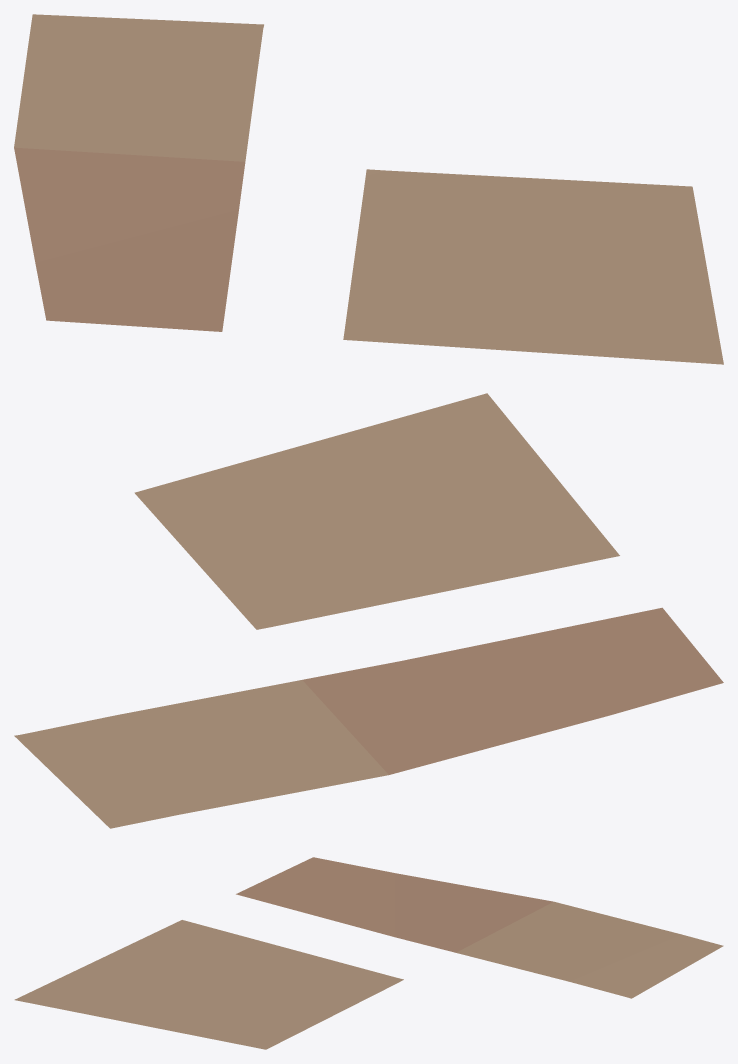
Rendered from farm_-47_-42_soil.glb.
3 renders of one model, top to bottom at view 1: azimuth 30°, elevation 25°; view 2: azimuth 150°, elevation 25°; view 3: azimuth 270°, elevation 25°, orthographic. The views are drawn at different scales.
Visible parts, largest first — view 1: geometry_0; view 2: geometry_0; view 3: geometry_0.
Boxes of the visible parts, box(x1,y1,x2,y2) form: geometry_0: box(14, 14, 723, 364); geometry_0: box(14, 393, 723, 828); geometry_0: box(14, 857, 723, 1049).
Size of the model in its own units: 43.93 by 0.7582 by 65.96.
